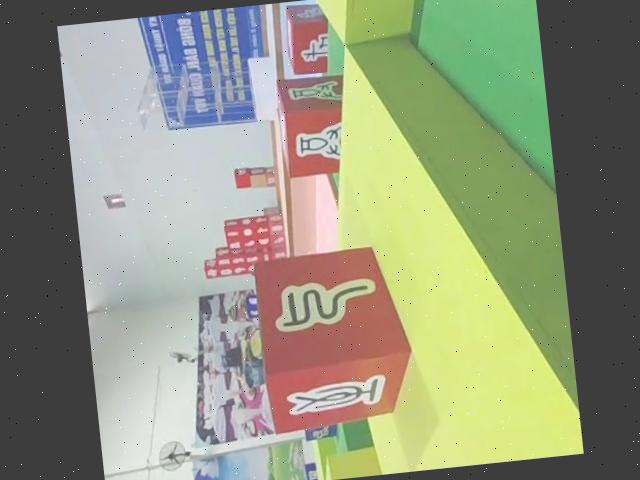R2 Fake: (248, 241, 421, 433)
R2 Real: (272, 75, 360, 180), (283, 3, 336, 78)
